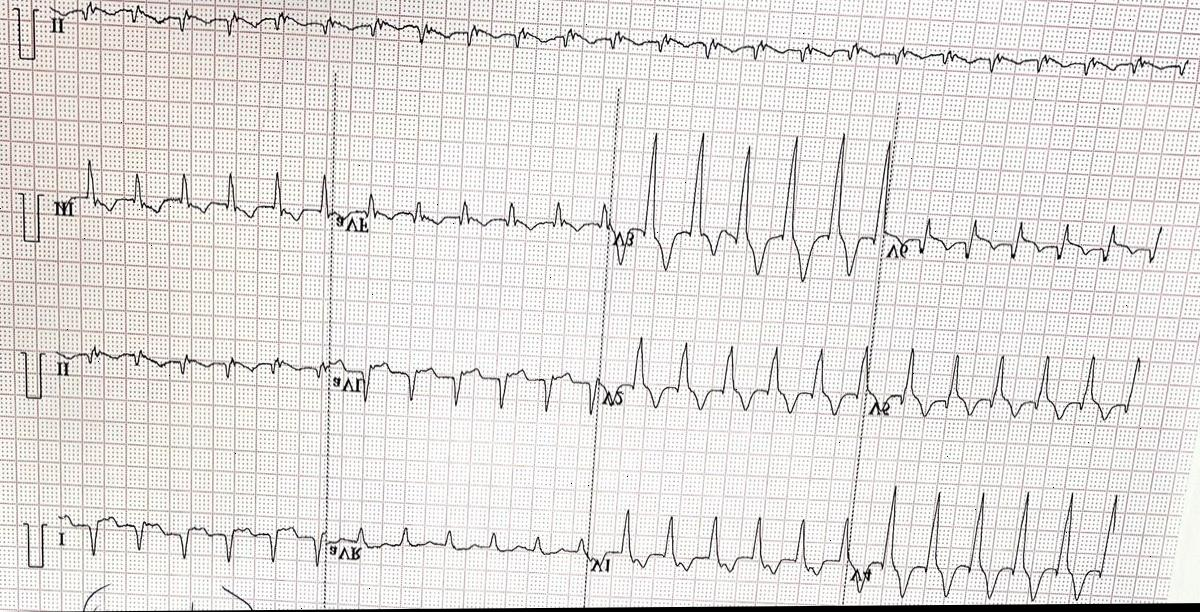Lead_I: (46, 498, 327, 577)
Lead_II: (43, 326, 332, 409)
Lead_III: (44, 156, 334, 240)
Lead_II_ext: (39, 0, 1200, 89)
Lead_V1: (585, 498, 852, 603)
Lead_V2: (596, 331, 872, 428)
Lead_V3: (610, 125, 895, 299)
Lead_V4: (846, 477, 1128, 607)
Lead_V5: (862, 330, 1162, 448)
Lead_V6: (876, 202, 1170, 298)
Lead_aVF: (335, 181, 614, 243)
Lead_aVL: (329, 356, 603, 418)
Lead_aVR: (322, 511, 587, 582)
